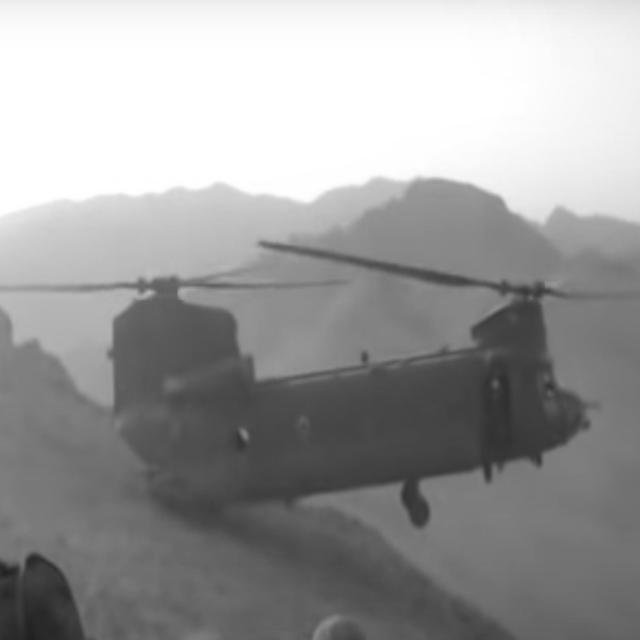Helicopter: (111, 241, 588, 527)
